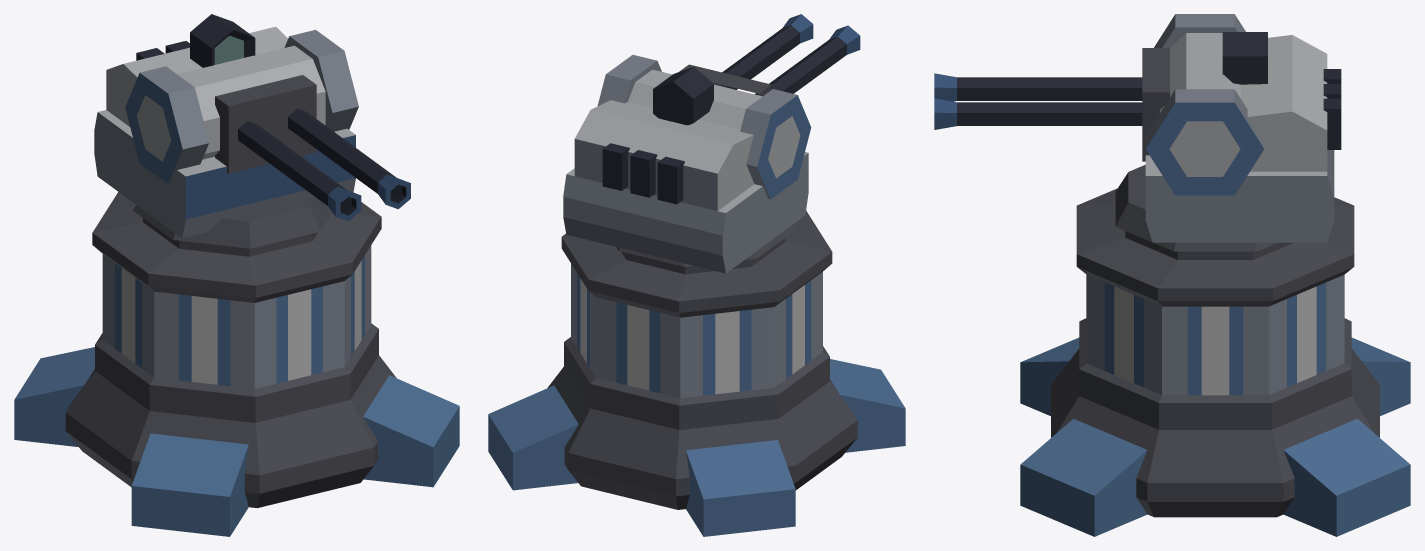
The model's file is defense-turret-12ba8d.glb.
3 renders of one model, left to right at view 1: azimuth 30°, elevation 25°; view 2: azimuth 150°, elevation 25°; view 3: azimuth 270°, elevation 25°, orthographic. The views are drawn at different scales.
Parts seen in each view (by area): view 1: turret-pedestal, turret-head, mantlet-cradle, gun-barrels; view 2: turret-pedestal, turret-head, gun-barrels, mantlet-cradle; view 3: turret-pedestal, turret-head, gun-barrels, mantlet-cradle.
Boxes of the visible parts, <box> form: turret-pedestal: <box>14,192,459,536</box>; turret-head: <box>94,14,358,248</box>; mantlet-cradle: <box>177,45,325,173</box>; gun-barrels: <box>238,108,410,221</box>; turret-pedestal: <box>488,210,905,536</box>; turret-head: <box>563,55,811,273</box>; gun-barrels: <box>713,14,860,95</box>; mantlet-cradle: <box>627,64,771,129</box>; turret-pedestal: <box>1020,188,1410,536</box>; turret-head: <box>1115,14,1341,251</box>; gun-barrels: <box>934,73,1142,129</box>; mantlet-cradle: <box>1142,33,1240,161</box>.
Bounding box in the file's own units: 2.23 × 2.67 × 2.73.
